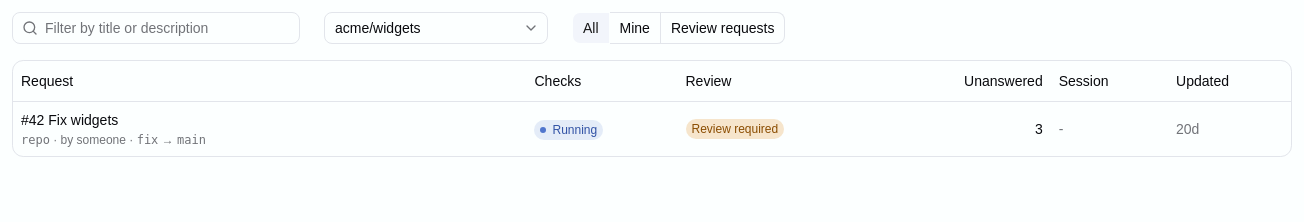
Test: offers a refresh only while a repository in view polls or its webhook is down
This screenshot has width=1304, height=222.
Expected: the link "#42 Fix widgets" is shown, [21,110,118,130]
Expected: the button "Refresh" is not shown
What coordinates should you click on to do the following:
click the dropdown named "Filter by repository"
I would click on:
 (436, 28)
Its box is [324,12,548,44].
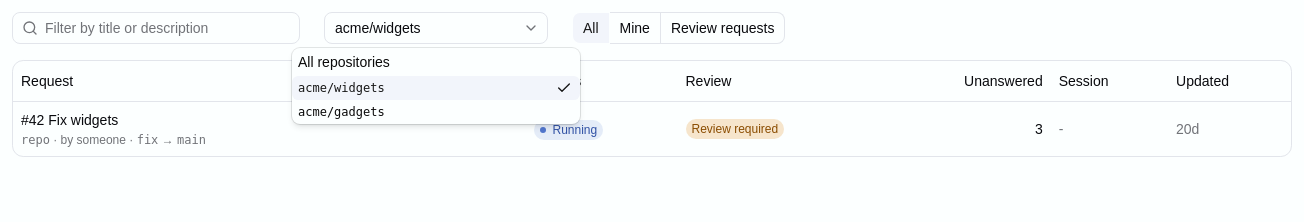
What coordinates should you click on to do the following:
click the option "acme/gadgets"
I would click on:
 (341, 112)
Its box is [298,105,385,119].
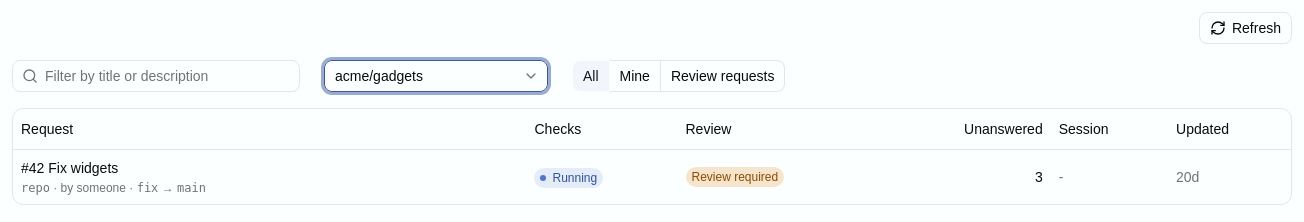
Expected: the button "Refresh" is shown, [1199,12,1292,44]
